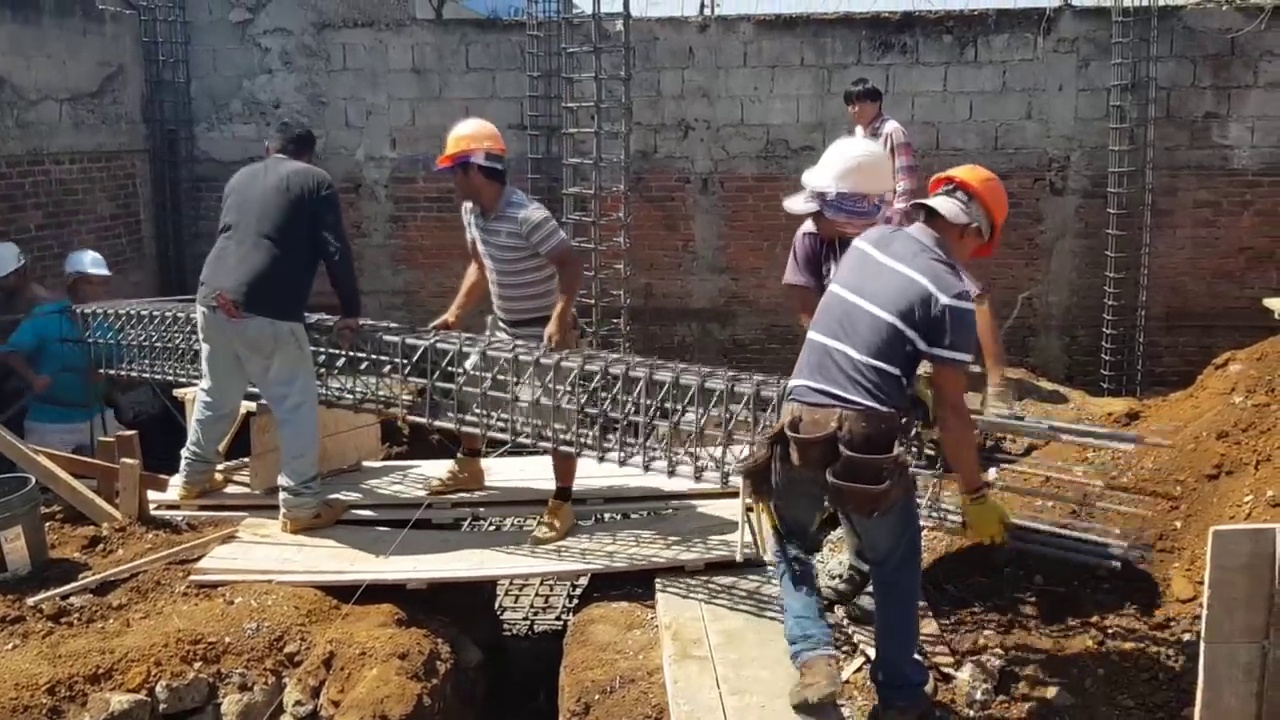helmet: (927, 157, 1013, 254), (793, 132, 896, 200), (431, 118, 509, 167), (58, 250, 111, 279), (0, 243, 26, 281)
helmet-off: (845, 77, 890, 132), (262, 122, 314, 166)
helmet-on: (796, 136, 901, 245), (915, 157, 1011, 269), (431, 119, 506, 211), (1, 242, 50, 315), (60, 246, 111, 311)
person: (756, 130, 1011, 704), (176, 116, 372, 543), (428, 118, 582, 513), (773, 135, 923, 339), (8, 244, 125, 493), (844, 72, 926, 228)
